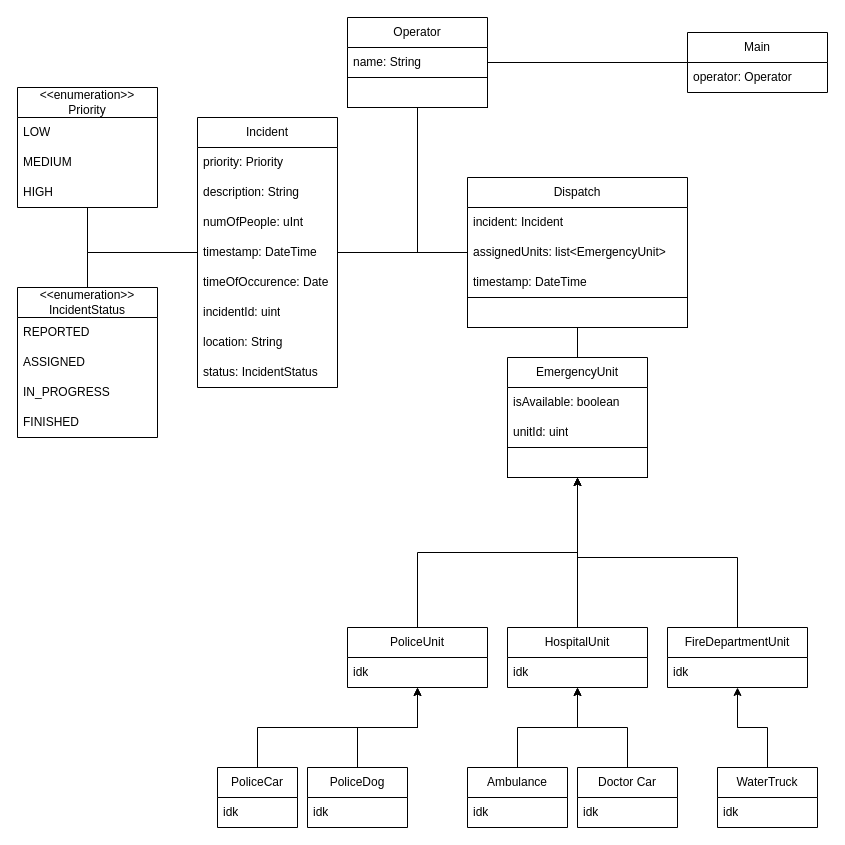
Image size: 845x845. Some labels were removed from this diagram. Each missing label, with the centre of its shape:
assignUnit(EmergencyUnit): the point at 577,312
setAvailability(boolean): the point at 577,462
viewIncident(Incident): the point at 417,92
